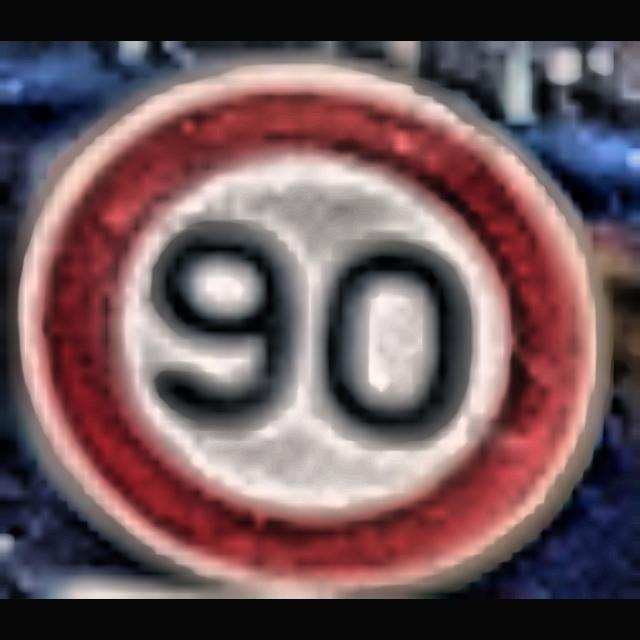speed_90: (1, 61, 630, 589)
